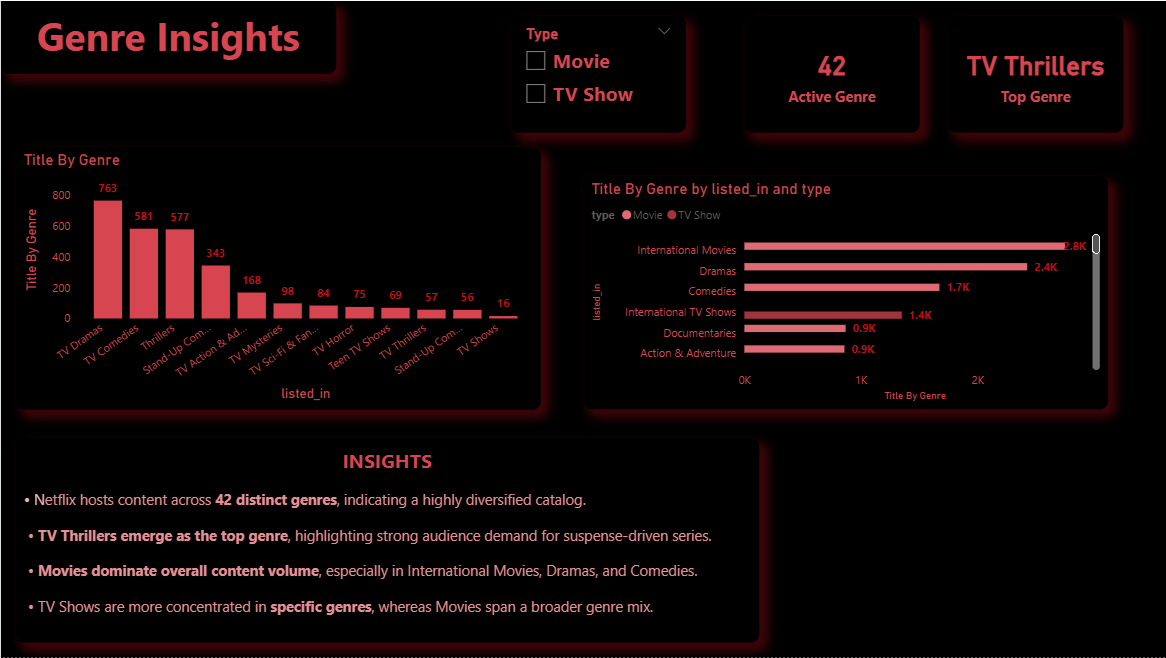

What the dashboard file says about the page in this screenshot:
{"tool":"powerbi","page":{"name":"Genre Insights","canvas":[1280,720],"ordinal":1},"visuals":[{"type":"textbox","box":[0,0,368,80],"z":0},{"type":"clusteredColumnChart","title":"Title By Genre","fields":{"Category":["Genre_table.listed_in"],"Y":["Genre_table.Measure"]},"box":[16,160,576,288],"z":1000},{"type":"clusteredBarChart","fields":{"Category":["Genre_table.listed_in"],"Series":["Genre_table.type"],"Y":["Genre_table.Measure"]},"box":[640,192,576,256],"z":2000},{"type":"slicer","fields":{"Values":["Genre_table.type"]},"box":[560,16,192,128],"z":3000},{"type":"card","fields":{"Values":["Genre_table.Total Genres"]},"box":[816,16,192,128],"z":4000},{"type":"card","fields":{"Values":["Genre_table.Top Genre"]},"box":[1040,16,192,128],"z":5000},{"type":"textbox","box":[16,480,816,224],"z":6000}]}

Visuals, with their boxes in screenshot pixels (x1, y1, x2, y2), scaled from the page's 1280x720 canvas onto the 1166x658 screenshot:
textbox: [0,0,335,73]
"Title By Genre" clusteredColumnChart: [15,146,539,409]
clusteredBarChart - Genre_table.listed_in x Genre_table.type: [583,175,1108,409]
slicer - Genre_table.type: [510,15,685,132]
card - Genre_table.Total Genres: [743,15,918,132]
card - Genre_table.Top Genre: [947,15,1122,132]
textbox: [15,439,758,643]
